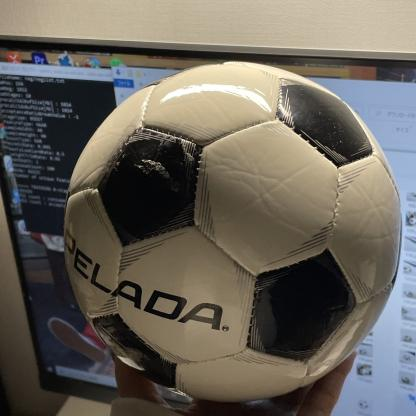ball: (61, 63, 402, 404)
